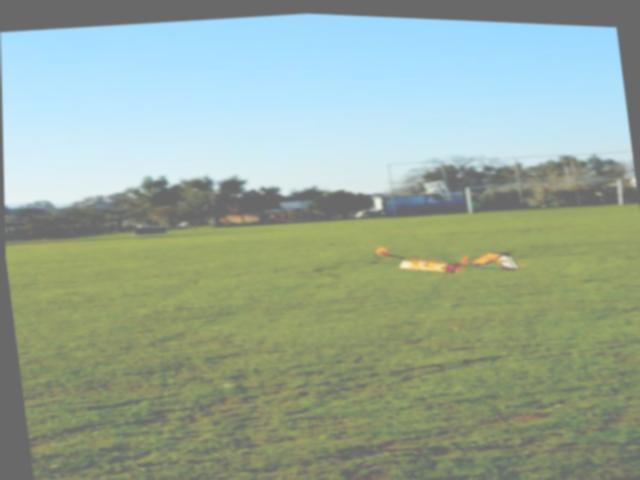iha: (370, 224, 521, 279)
